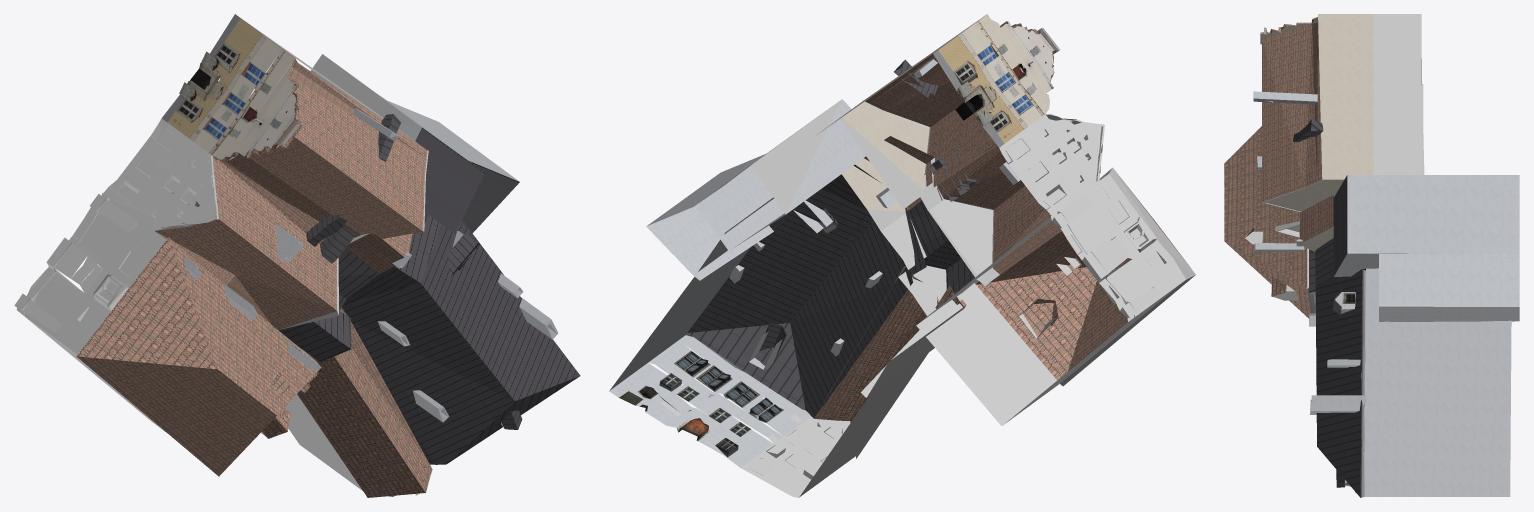
Rendered from Pikk_24-origo.obj.
The picture shows the model from 3 angles, left to right: view 1: azimuth 30°, elevation 25°; view 2: azimuth 150°, elevation 25°; view 3: azimuth 270°, elevation 25°; orthographic projection. The views are drawn at different scales.
Parts seen in each view (by area): view 1: Pikk_24; view 2: Pikk_24; view 3: Pikk_24.
Part boxes in pixels (box(x1,y1,x2,y2)): Pikk_24: box(14, 14, 580, 497); Pikk_24: box(609, 14, 1195, 497); Pikk_24: box(1224, 14, 1519, 497).
Bounding box in the file's own units: 55.12 × 48.5 × 30.66.
